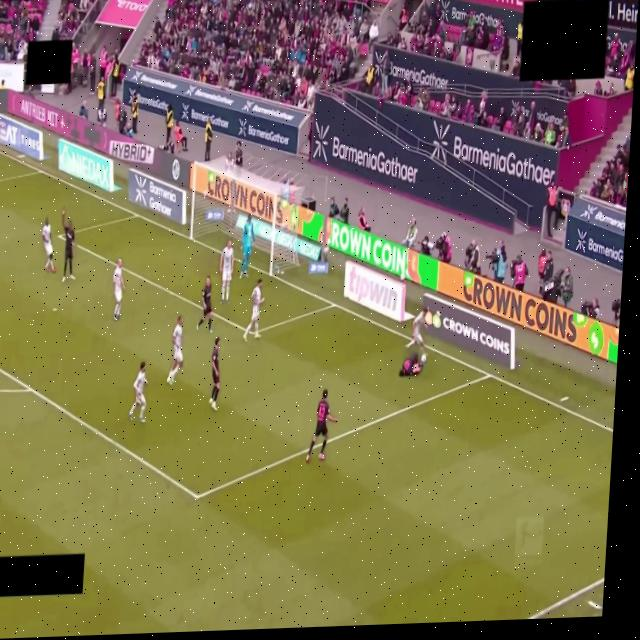ball: (421, 353, 426, 364)
player: (306, 389, 337, 462), (243, 279, 264, 341), (129, 362, 148, 423), (167, 317, 183, 385), (62, 209, 75, 281), (406, 307, 428, 349), (240, 214, 254, 277), (197, 278, 212, 332), (220, 241, 233, 303), (42, 218, 56, 272), (210, 337, 220, 411), (113, 259, 125, 320), (399, 354, 425, 376), (225, 152, 233, 170)
